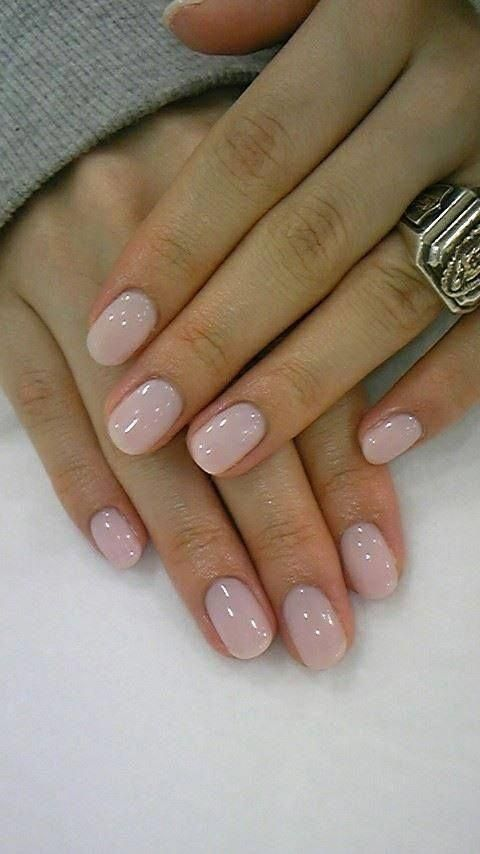nails: (192, 571, 283, 667), (180, 394, 277, 479), (329, 511, 412, 609), (95, 370, 187, 458), (270, 580, 356, 672), (80, 283, 163, 370), (75, 497, 155, 572), (357, 404, 432, 470)
